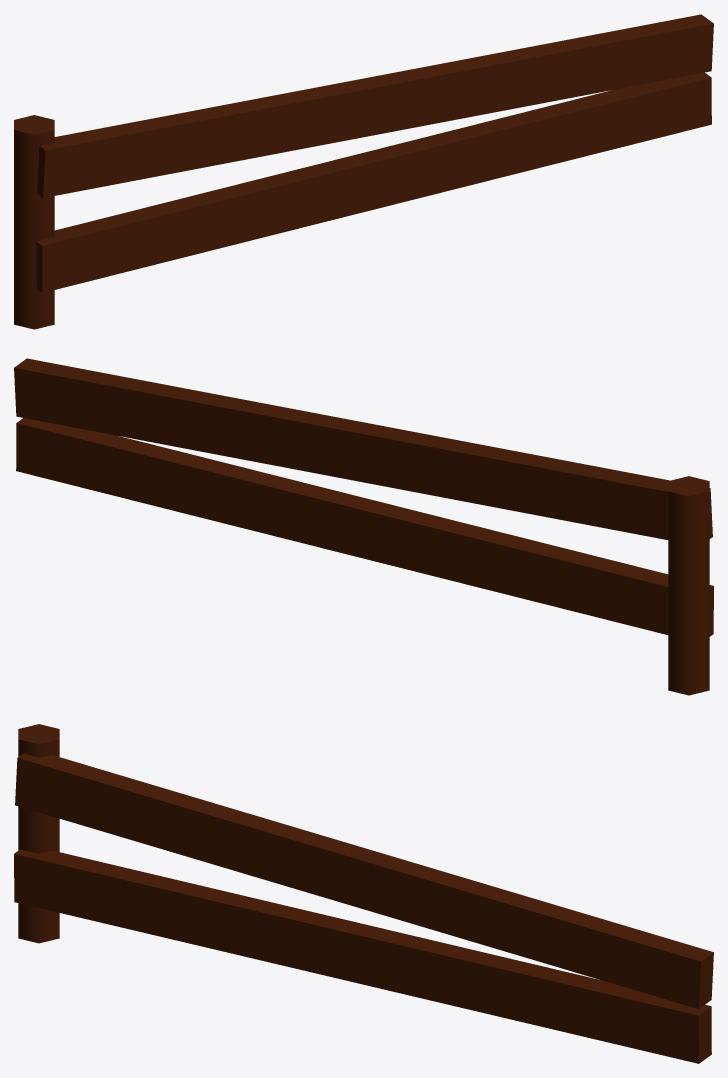
Rendered from Fence1.FBX.
3 views of the same model, one above another, from view 1: azimuth 30°, elevation 25°; view 2: azimuth 150°, elevation 25°; view 3: azimuth 330°, elevation 25° (orthographic). The views are drawn at different scales.
Parts seen in each view (by area): view 1: Fence00; view 2: Fence00; view 3: Fence00.
Boxes of the visible parts, left/top/right/bottom form: Fence00: left=14, top=14, right=713, bottom=329; Fence00: left=14, top=358, right=713, bottom=695; Fence00: left=14, top=724, right=713, bottom=1063.
Size of the model in its own units: 3617 by 241 by 984.
